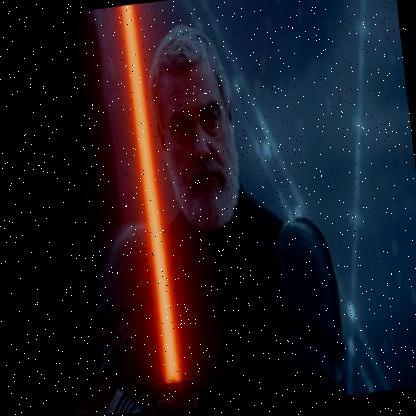sith_lightsaber: (108, 2, 206, 413)
